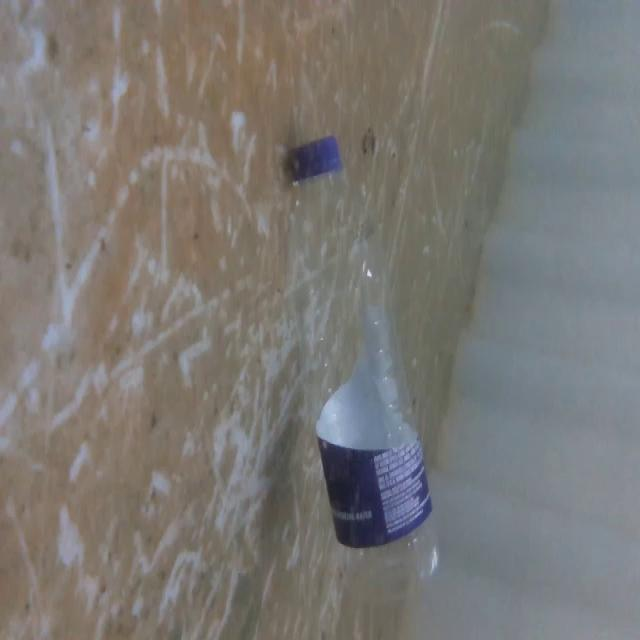plastic bottle: (277, 137, 460, 595)
